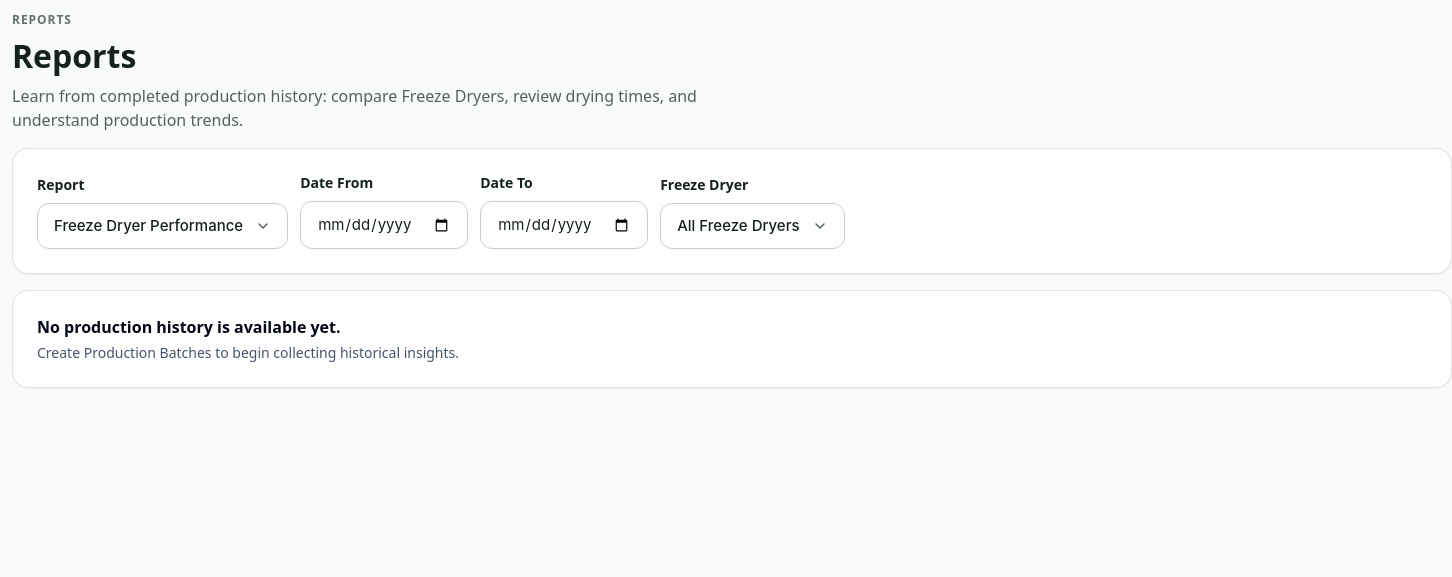
Test: ReportsPage › switches to Product History, showing only its filter and its table
The image size is (1452, 577).
Expected: the text "No production history is available yet." is shown, x1=37 y1=316 x2=341 y2=338
Click the dropdown named "Report" at (163, 226), box x1=37 y1=203 x2=288 y2=249
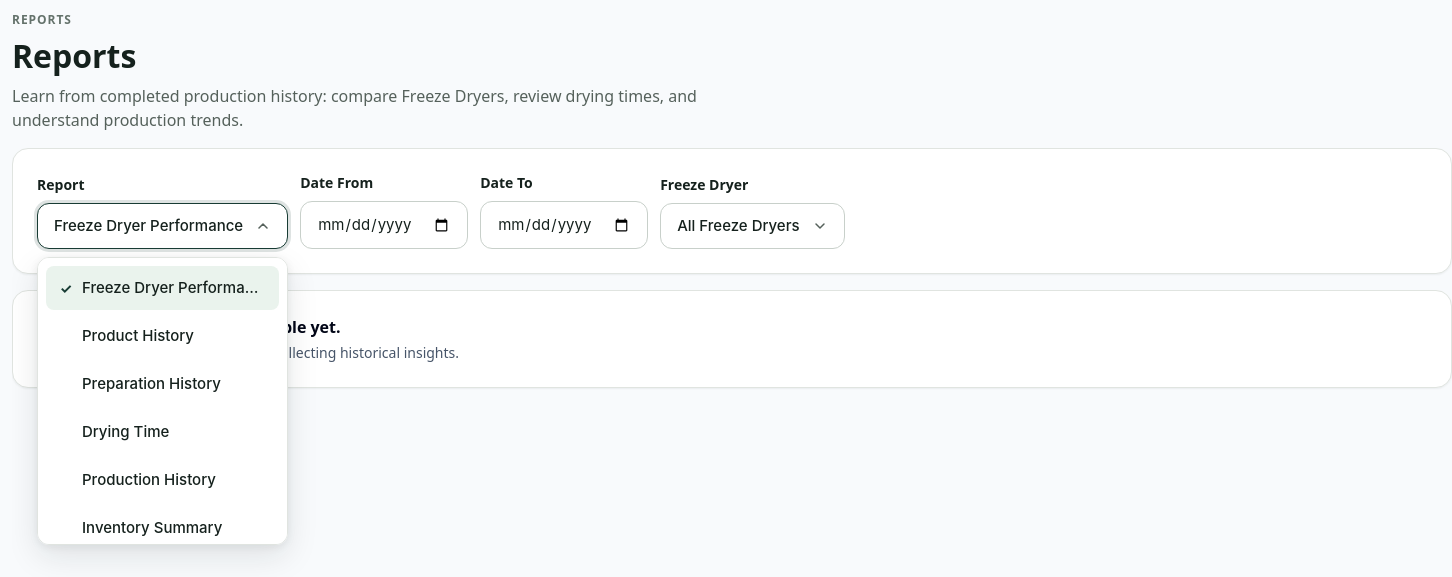
Click the option "Product History" at (163, 336), box x1=46 y1=314 x2=279 y2=358
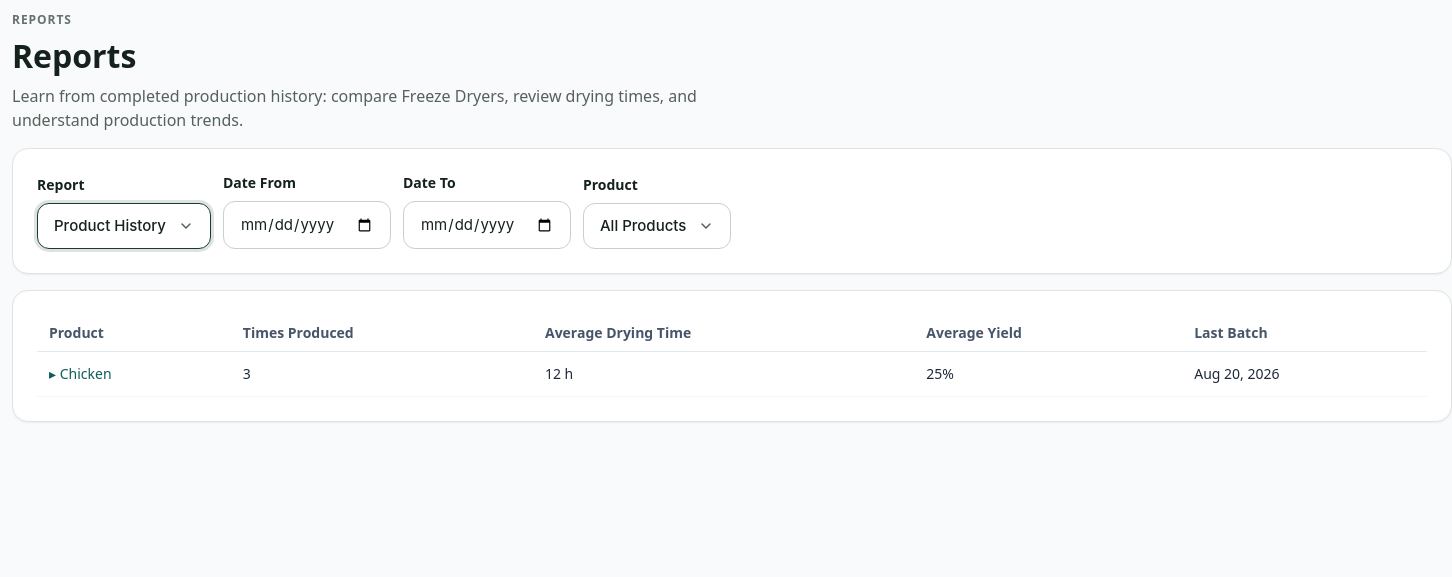
Result: the button "▸ Chicken" is shown at x1=49 y1=364 x2=112 y2=384
Result: the text "3" is shown at x1=231 y1=352 x2=533 y2=396
Result: the text "12 h" is shown at x1=533 y1=352 x2=914 y2=396
